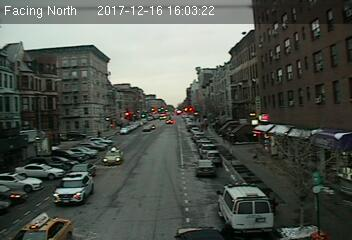car: (103, 147, 122, 166), (194, 160, 215, 177), (69, 163, 97, 175), (205, 150, 222, 164)
police: (215, 181, 277, 232), (50, 170, 97, 206)
